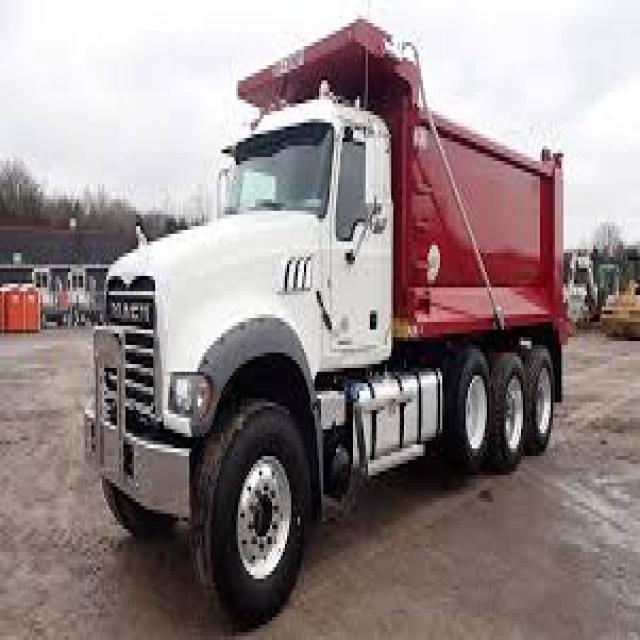dump_truck: (80, 18, 575, 629)
